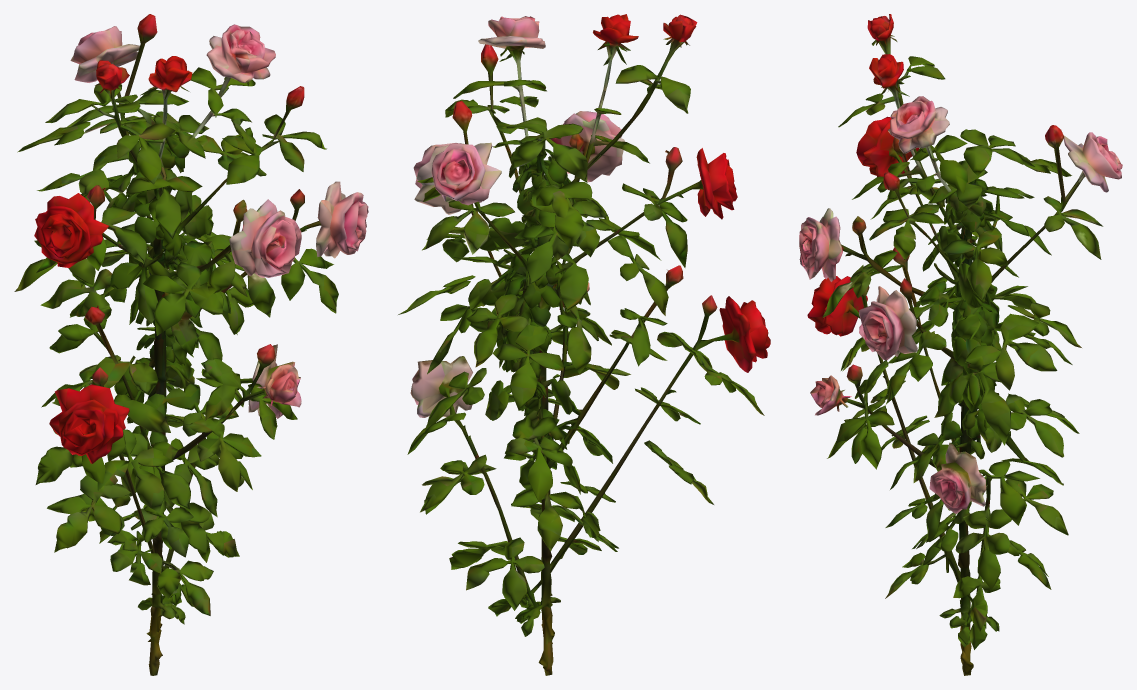
The model's file is YueJi.glb.
The picture shows the model from 3 angles, left to right: view 1: azimuth 30°, elevation 25°; view 2: azimuth 150°, elevation 25°; view 3: azimuth 270°, elevation 25°; orthographic projection. The views are drawn at different scales.
Parts seen in each view (by area): view 1: tripo_node_8fafa4d3-9419-4d9e-ad9d-914415c9da06; view 2: tripo_node_8fafa4d3-9419-4d9e-ad9d-914415c9da06; view 3: tripo_node_8fafa4d3-9419-4d9e-ad9d-914415c9da06.
Boxes of the visible parts, x1,y1,x2,y2 form: tripo_node_8fafa4d3-9419-4d9e-ad9d-914415c9da06: (14, 14, 368, 675); tripo_node_8fafa4d3-9419-4d9e-ad9d-914415c9da06: (398, 14, 770, 675); tripo_node_8fafa4d3-9419-4d9e-ad9d-914415c9da06: (799, 14, 1122, 675).
Bounding box in the file's own units: 0.533 × 0.9787 × 0.4644.
Materials: 1 (1 with a texture image).
